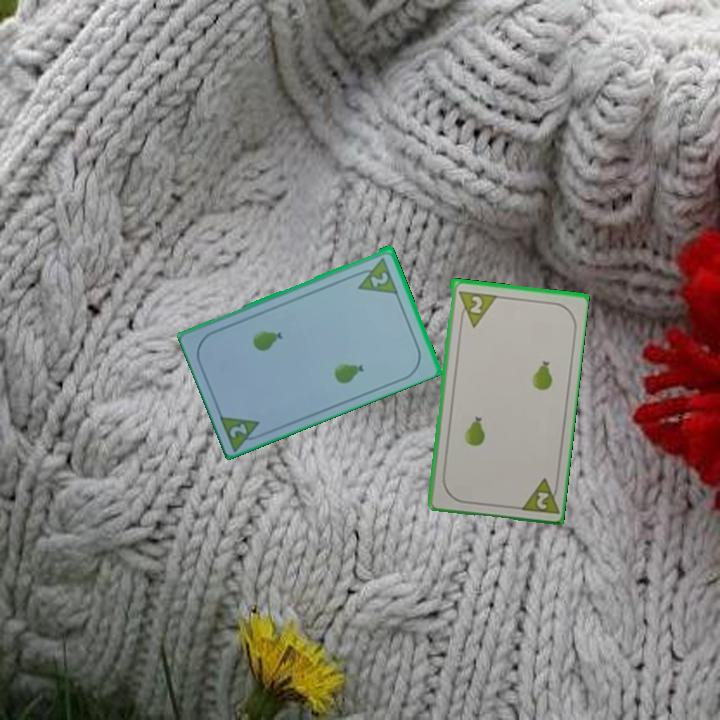2p: (216, 410, 269, 452), (350, 253, 400, 296), (515, 473, 561, 517), (455, 287, 498, 329)
